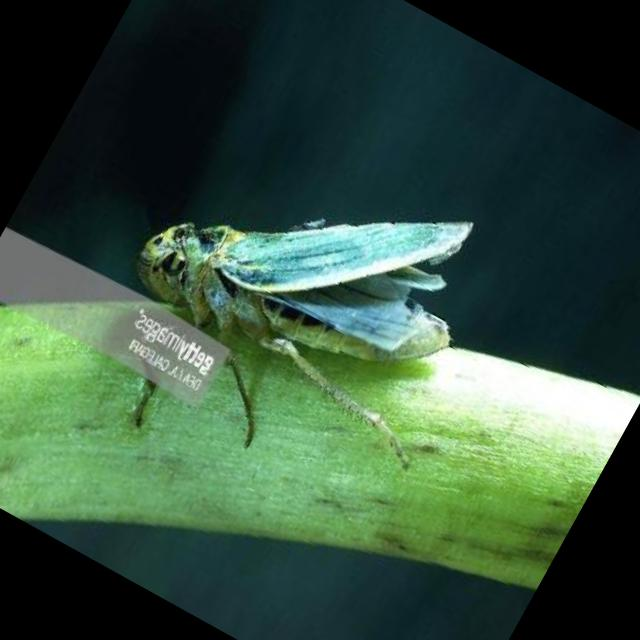green-leafhopper: (117, 100, 497, 447)
